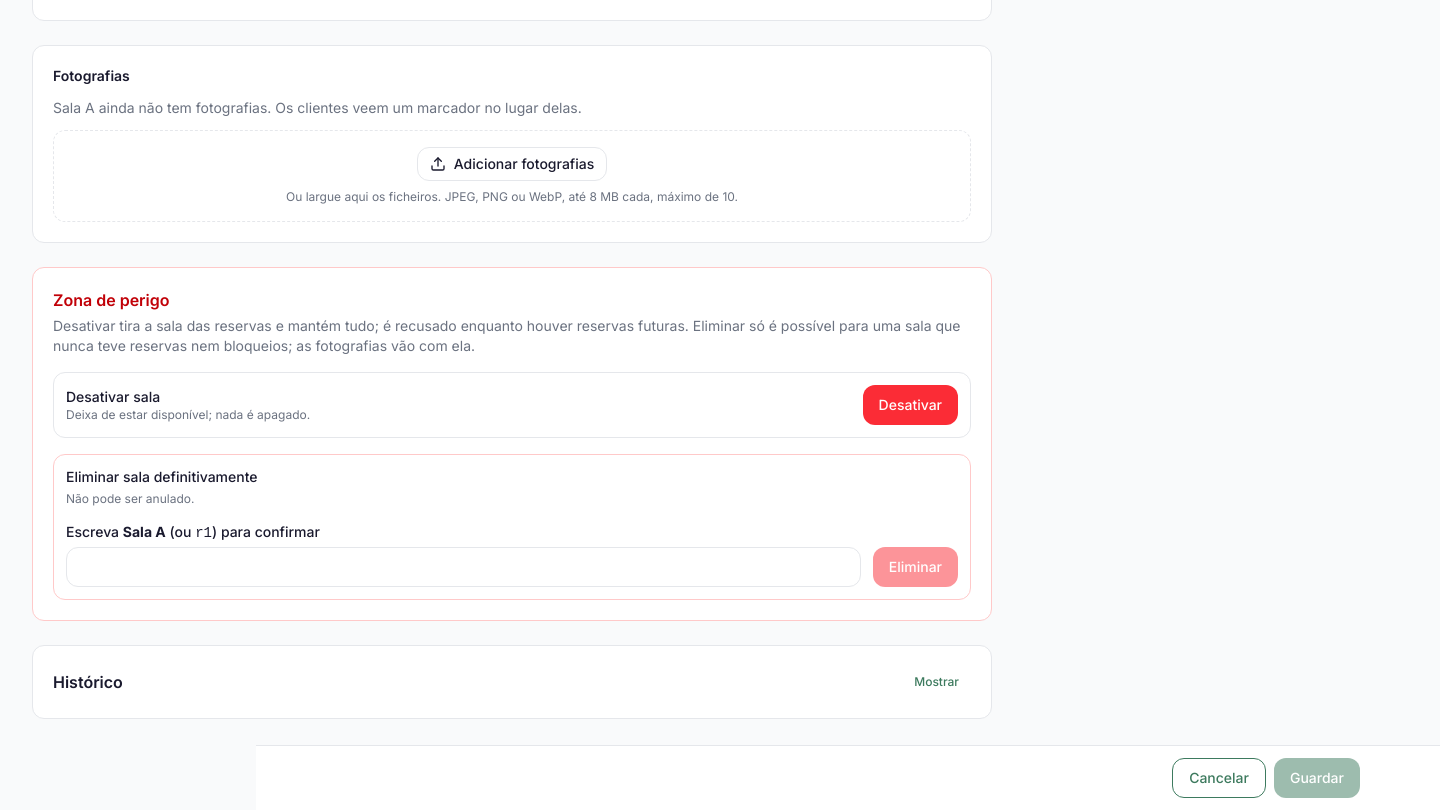
Test: Salas › deactivating a room with future bookings shows them as blockers (A07), and a space id is redirected
(page scrolled)
Click the button "Desativar" at (910, 405), box [863, 385, 958, 425]
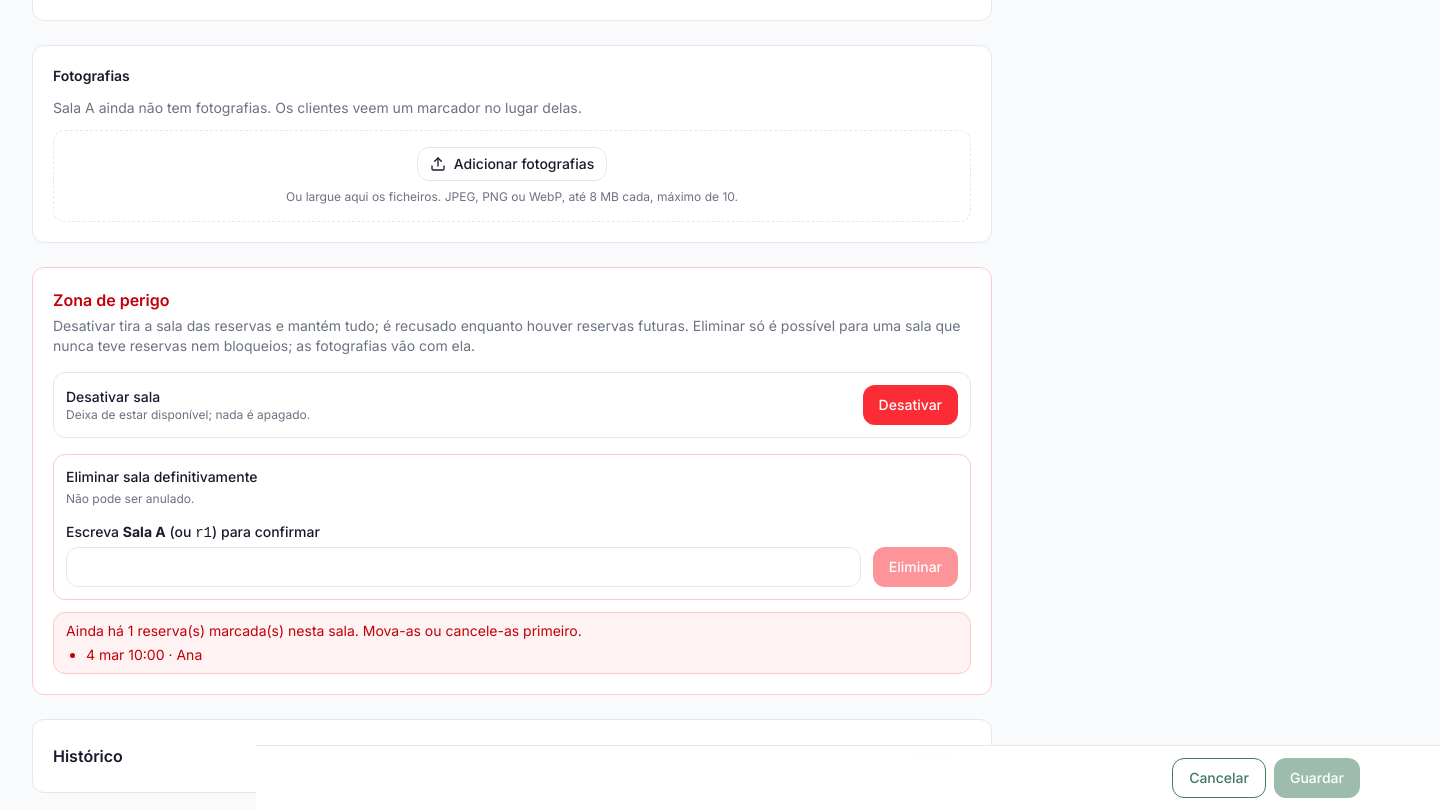
Now the message shows "Ainda há 1 reserva(s)", box [66, 622, 582, 639]
Now the message shows "Ana", box [86, 646, 202, 663]
